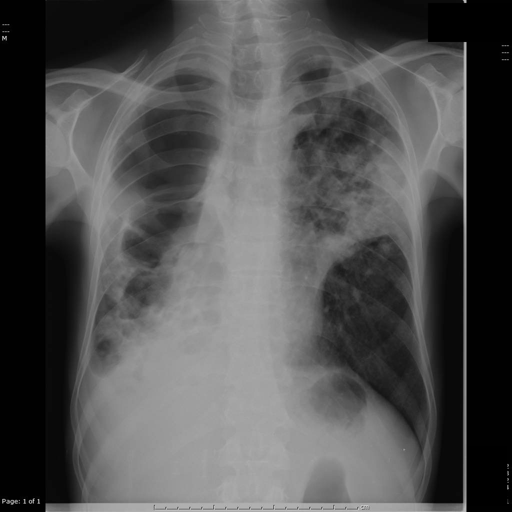TB: (300, 137, 402, 304), (100, 189, 177, 352)
